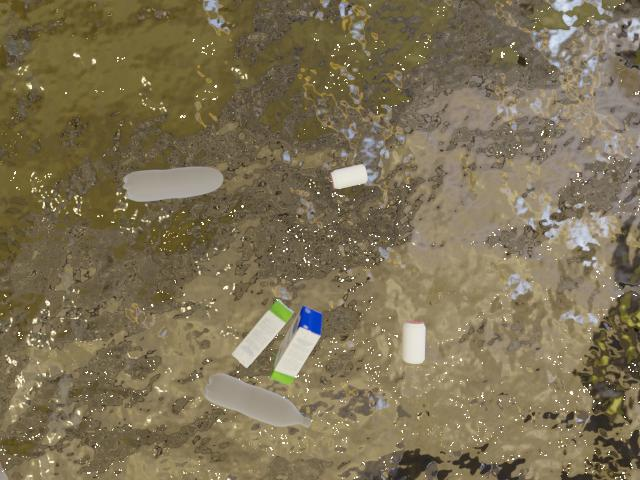Metal: (392, 306, 436, 376), (322, 149, 386, 195)
Plastic: (113, 142, 239, 220), (195, 361, 324, 435)
Trash: (220, 290, 343, 389)
